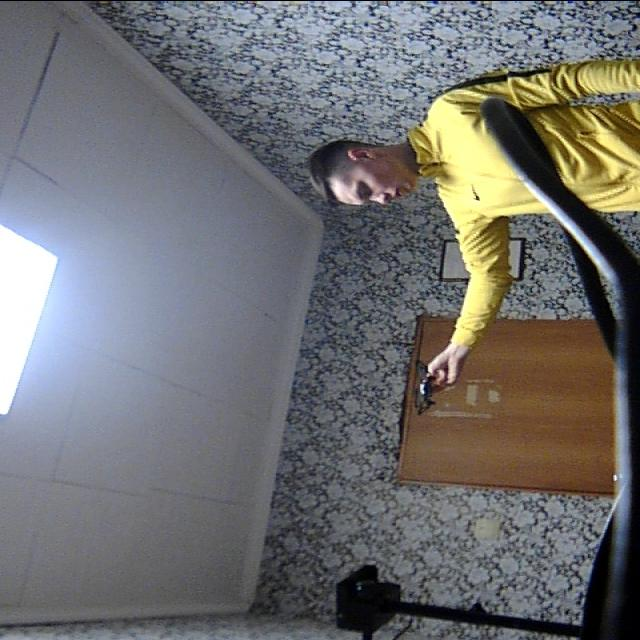drone: (395, 346, 454, 416)
